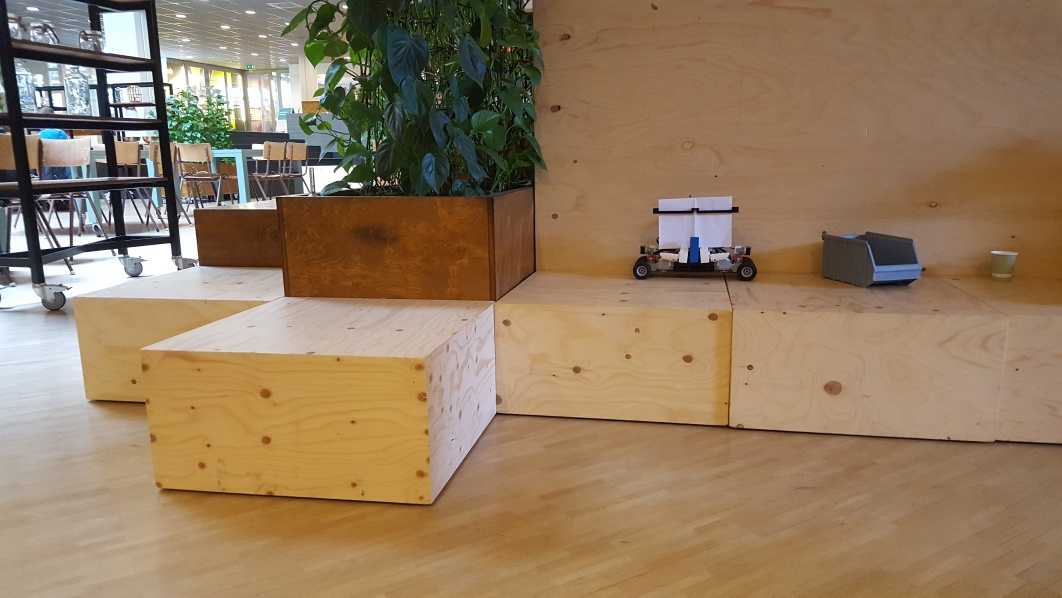car: (631, 194, 758, 282)
cup: (985, 248, 1018, 285)
tray: (819, 228, 925, 290)
